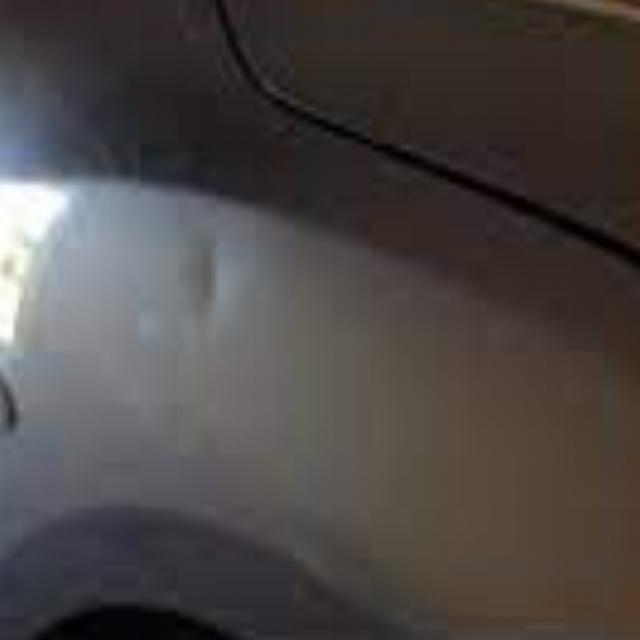dents: (148, 193, 271, 351)
